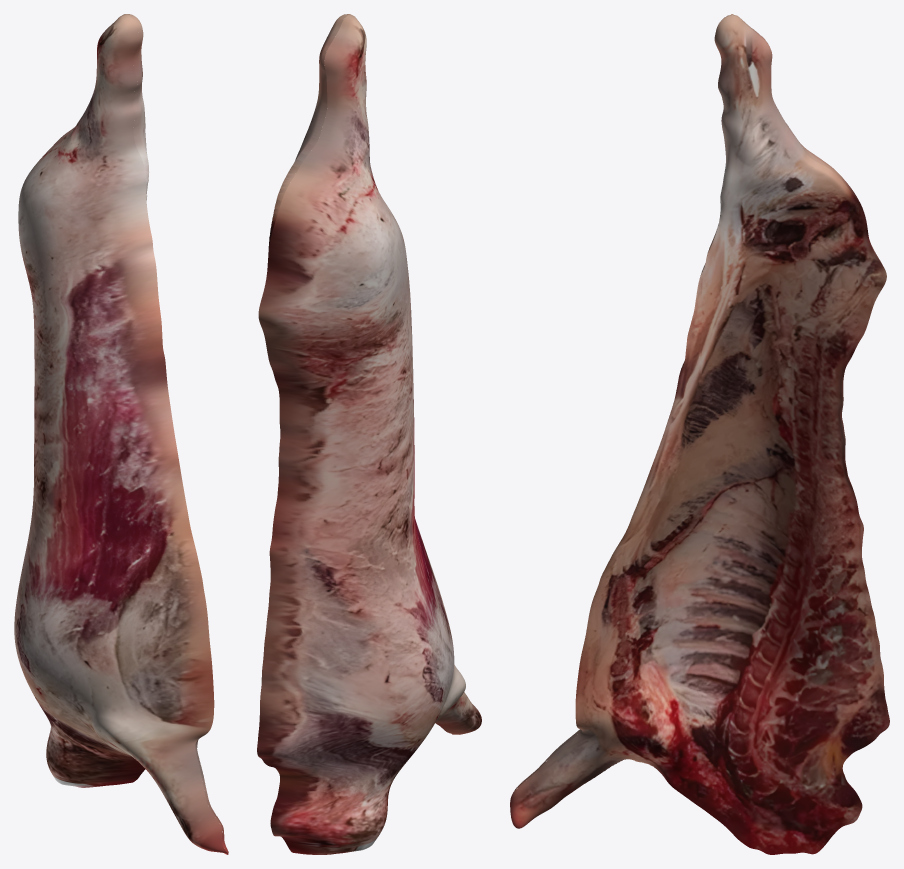
Rendered from demi_carcasse_boeuf_v9.glb.
3 renders of one model, left to right at view 1: azimuth 30°, elevation 25°; view 2: azimuth 150°, elevation 25°; view 3: azimuth 270°, elevation 25°, orthographic. The views are drawn at different scales.
Parts seen in each view (by area): view 1: face_exterieure, face_de_fente; view 2: face_exterieure, face_de_fente; view 3: face_de_fente, face_exterieure.
Boxes of the visible parts, <box> form: face_exterieure: <box>14,14,228,854</box>; face_de_fente: <box>126,14,228,853</box>; face_exterieure: <box>257,14,481,854</box>; face_de_fente: <box>268,14,452,734</box>; face_de_fente: <box>510,15,889,854</box>; face_exterieure: <box>513,14,882,792</box>.
Bounding box in the file's own units: 0.4163 × 2.5 × 1.03.
Materials: 2 (2 with a texture image).
